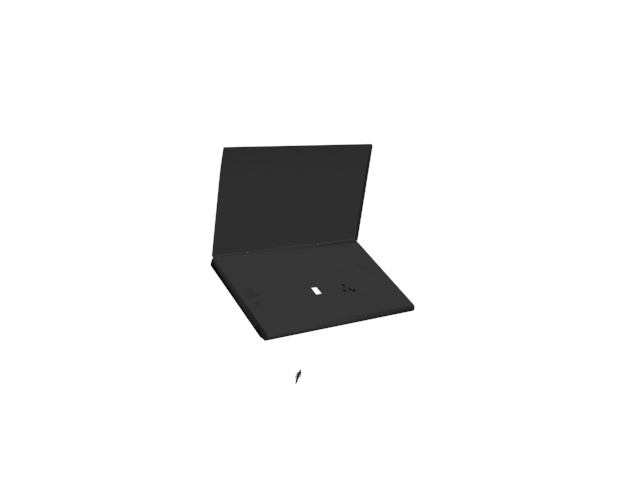laptop_computer: (209, 137, 416, 384)
